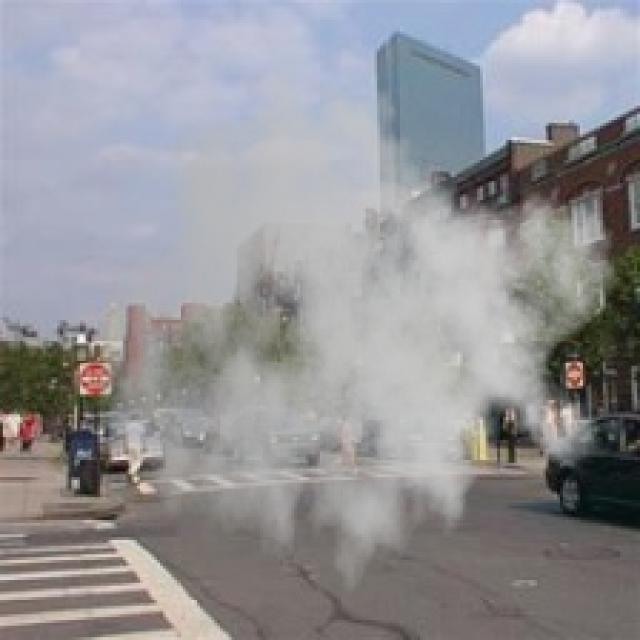smoke: (97, 54, 620, 617)
